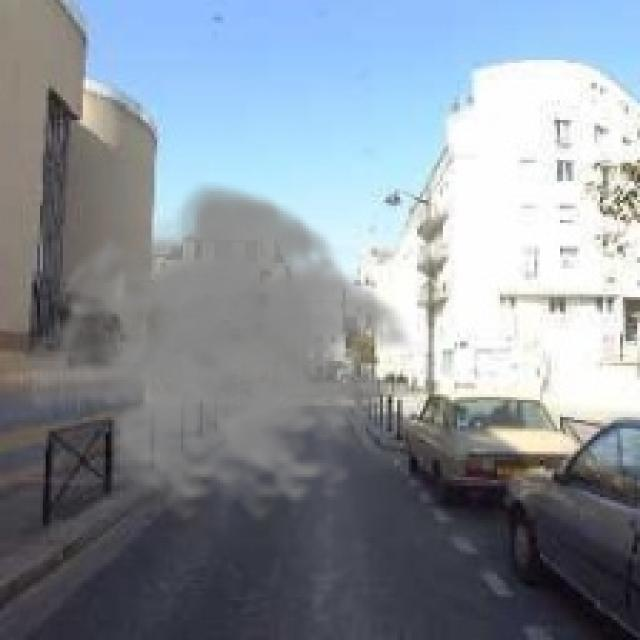smoke: (14, 180, 426, 523)
